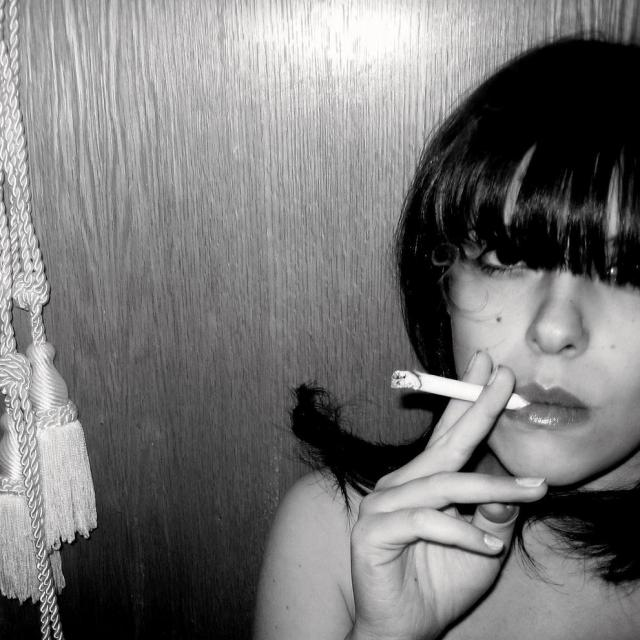Сигарета: (392, 368, 528, 413)
Тело: (272, 39, 640, 638)
